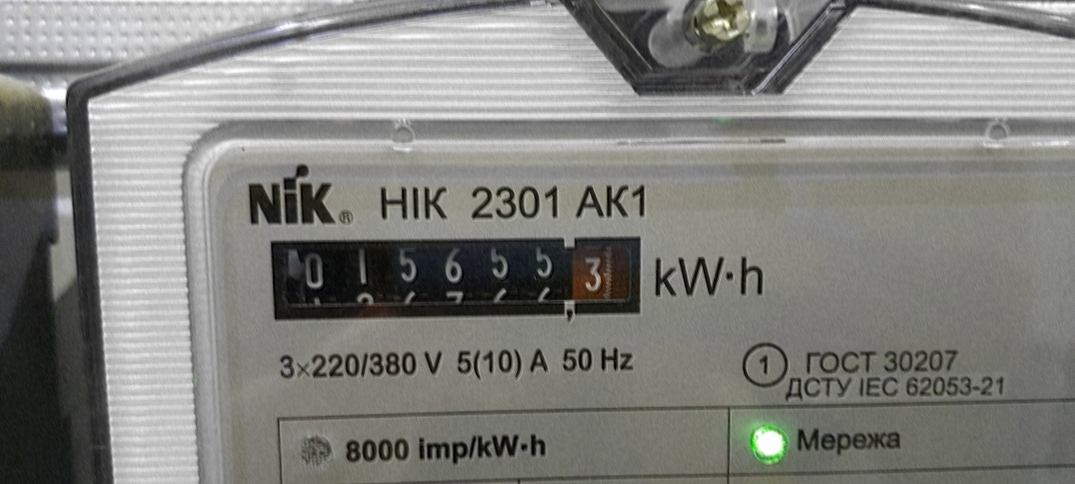0: (301, 249, 327, 291)
1: (353, 247, 372, 286)
3: (583, 256, 603, 292)
5: (395, 247, 420, 283), (488, 247, 512, 280), (535, 246, 554, 279)
6: (442, 247, 466, 284)
screen: (257, 218, 657, 337)
